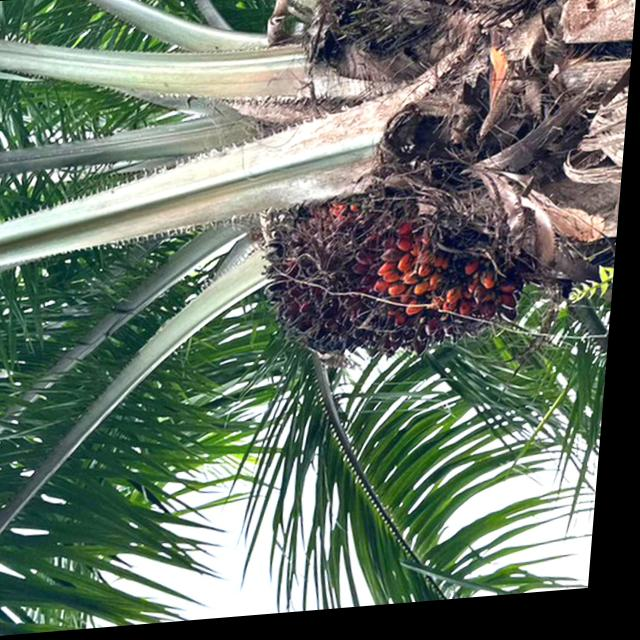ripe: (251, 195, 522, 375)
